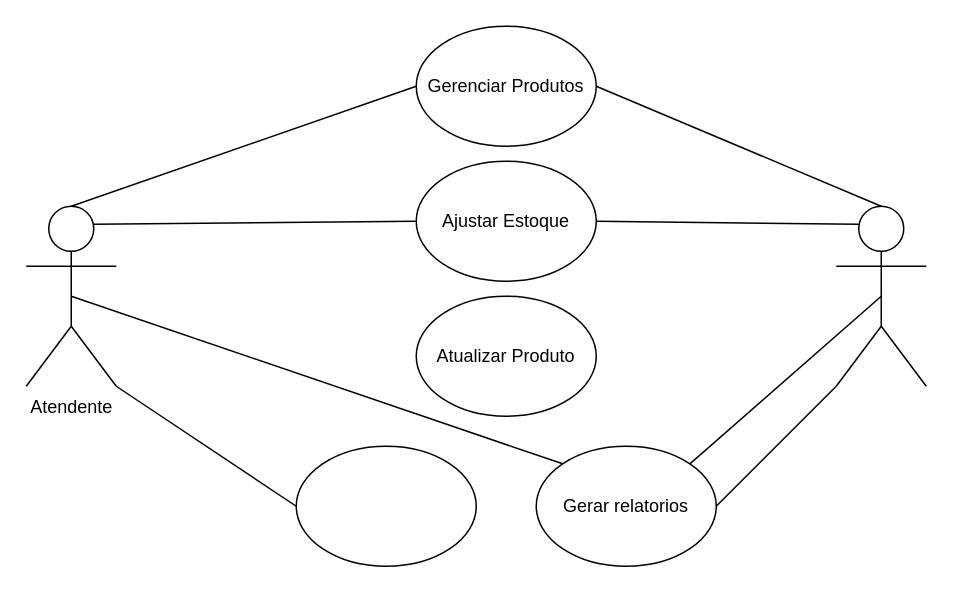
Some shapes in this 953 by 593 pixel diagram are drawn without their labels. The shapes that lost their labels are listed below. From the top down, each one's centre as x and y in pixels, then its label:
At (x=880, y=295): "Gerente".
At (x=385, y=505): "Verifique o nivel de esttoque".
